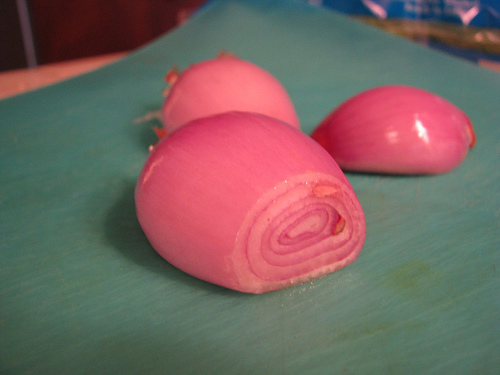onion: (132, 111, 368, 297), (308, 86, 475, 175), (153, 51, 299, 134)
